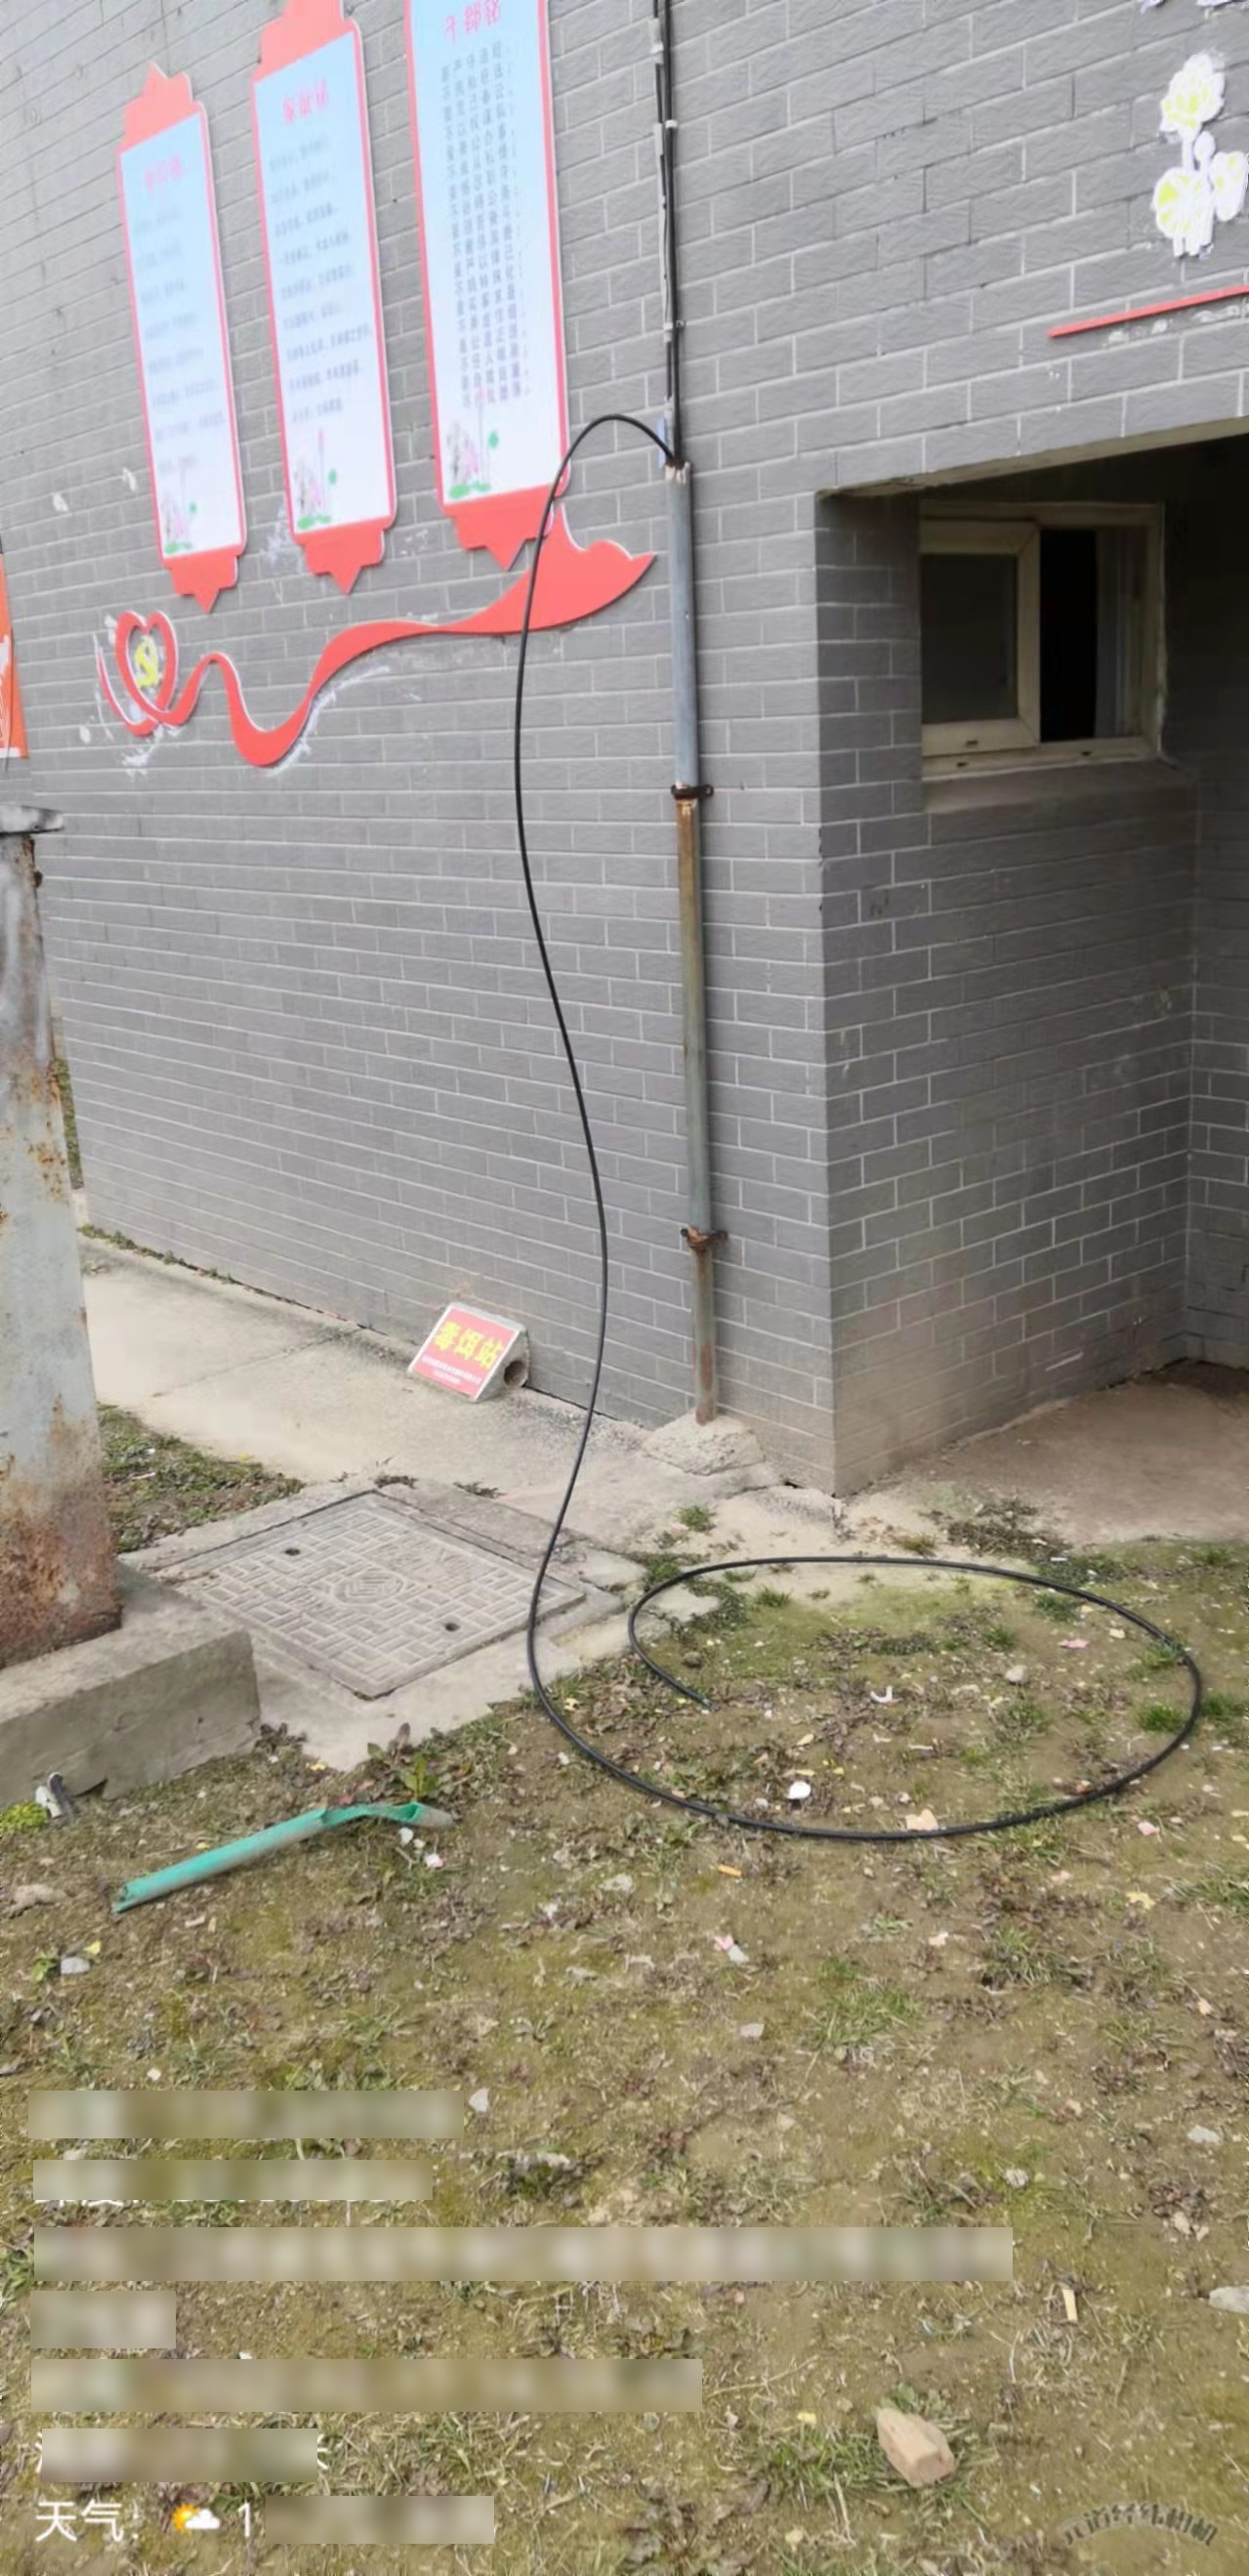good: (138, 1426, 594, 1700)
